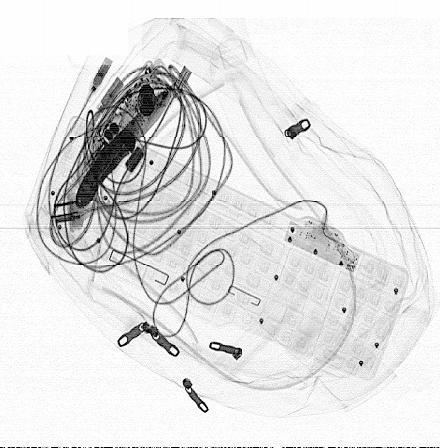Knife: (75, 83, 174, 209)
